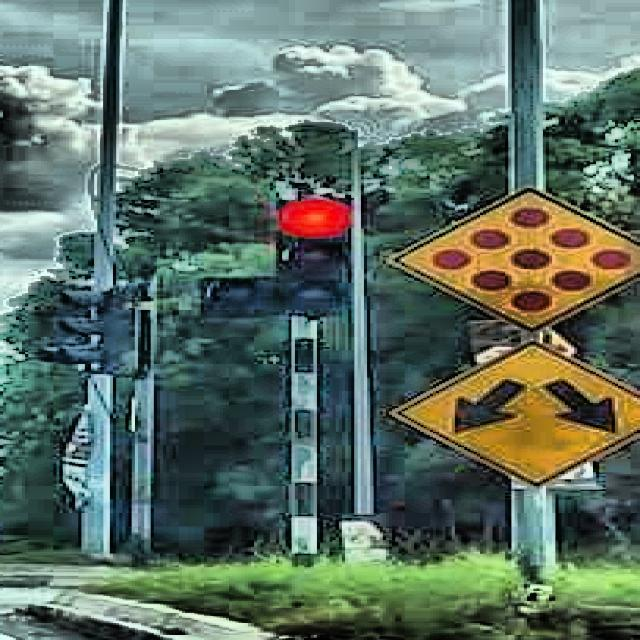red: (276, 195, 355, 315)
